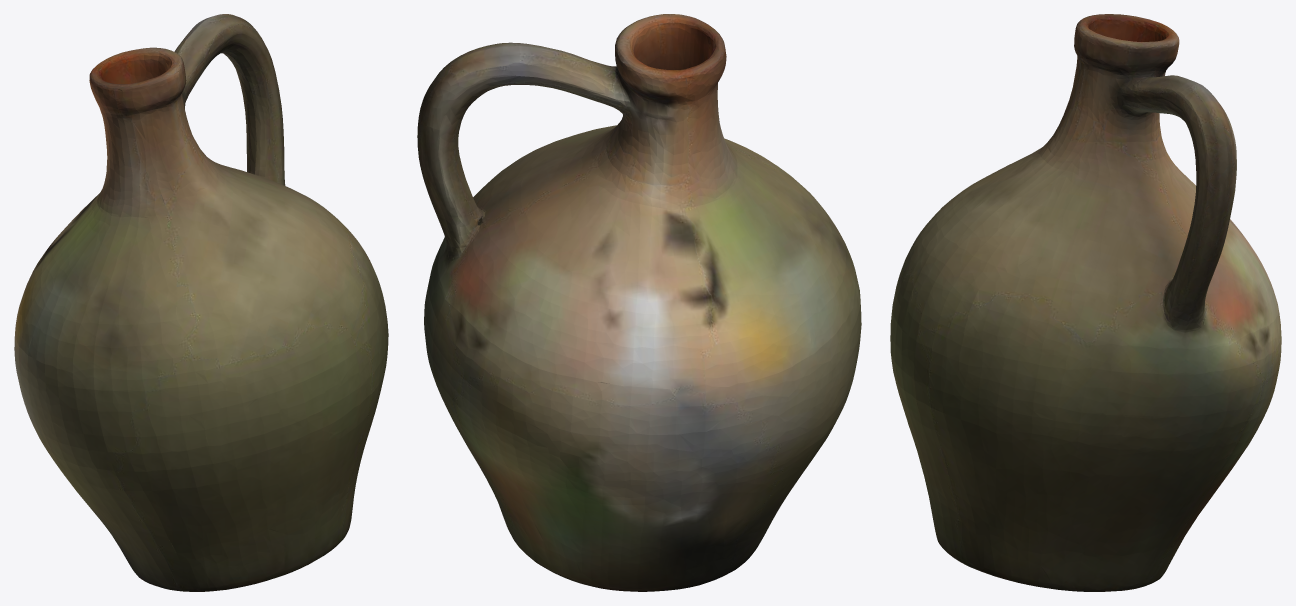
The model's file is ceramic_jug_on_the_left_000.glb.
3 renders of one model, left to right at view 1: azimuth 30°, elevation 25°; view 2: azimuth 150°, elevation 25°; view 3: azimuth 270°, elevation 25°, orthographic. The views are drawn at different scales.
Parts seen in each view (by area): view 1: ceramic_jug_on_the_left_000.obj; view 2: ceramic_jug_on_the_left_000.obj; view 3: ceramic_jug_on_the_left_000.obj.
Boxes of the visible parts, <box> form: ceramic_jug_on_the_left_000.obj: <box>14,14,388,591</box>; ceramic_jug_on_the_left_000.obj: <box>417,14,861,591</box>; ceramic_jug_on_the_left_000.obj: <box>890,14,1281,591</box>.
Size of the model in its own units: 0.4145 by 0.5907 by 0.4044.
1 material, 1 textured.
